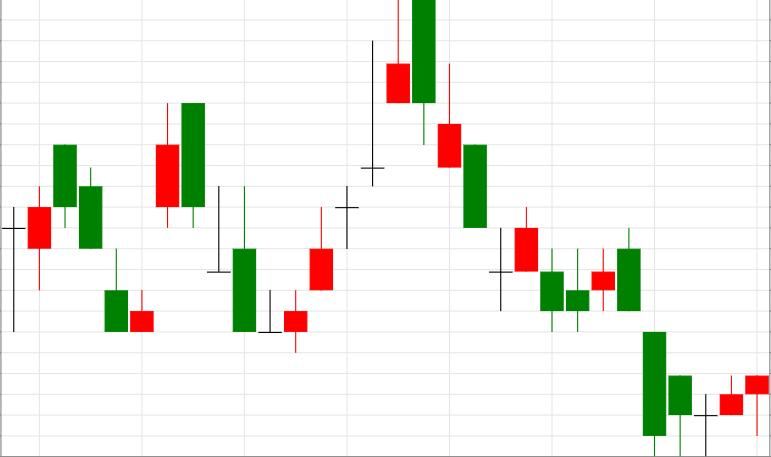bearish_engulfing_fall: (284, 1, 436, 352)
shooting_star_fall: (284, 1, 409, 352)
